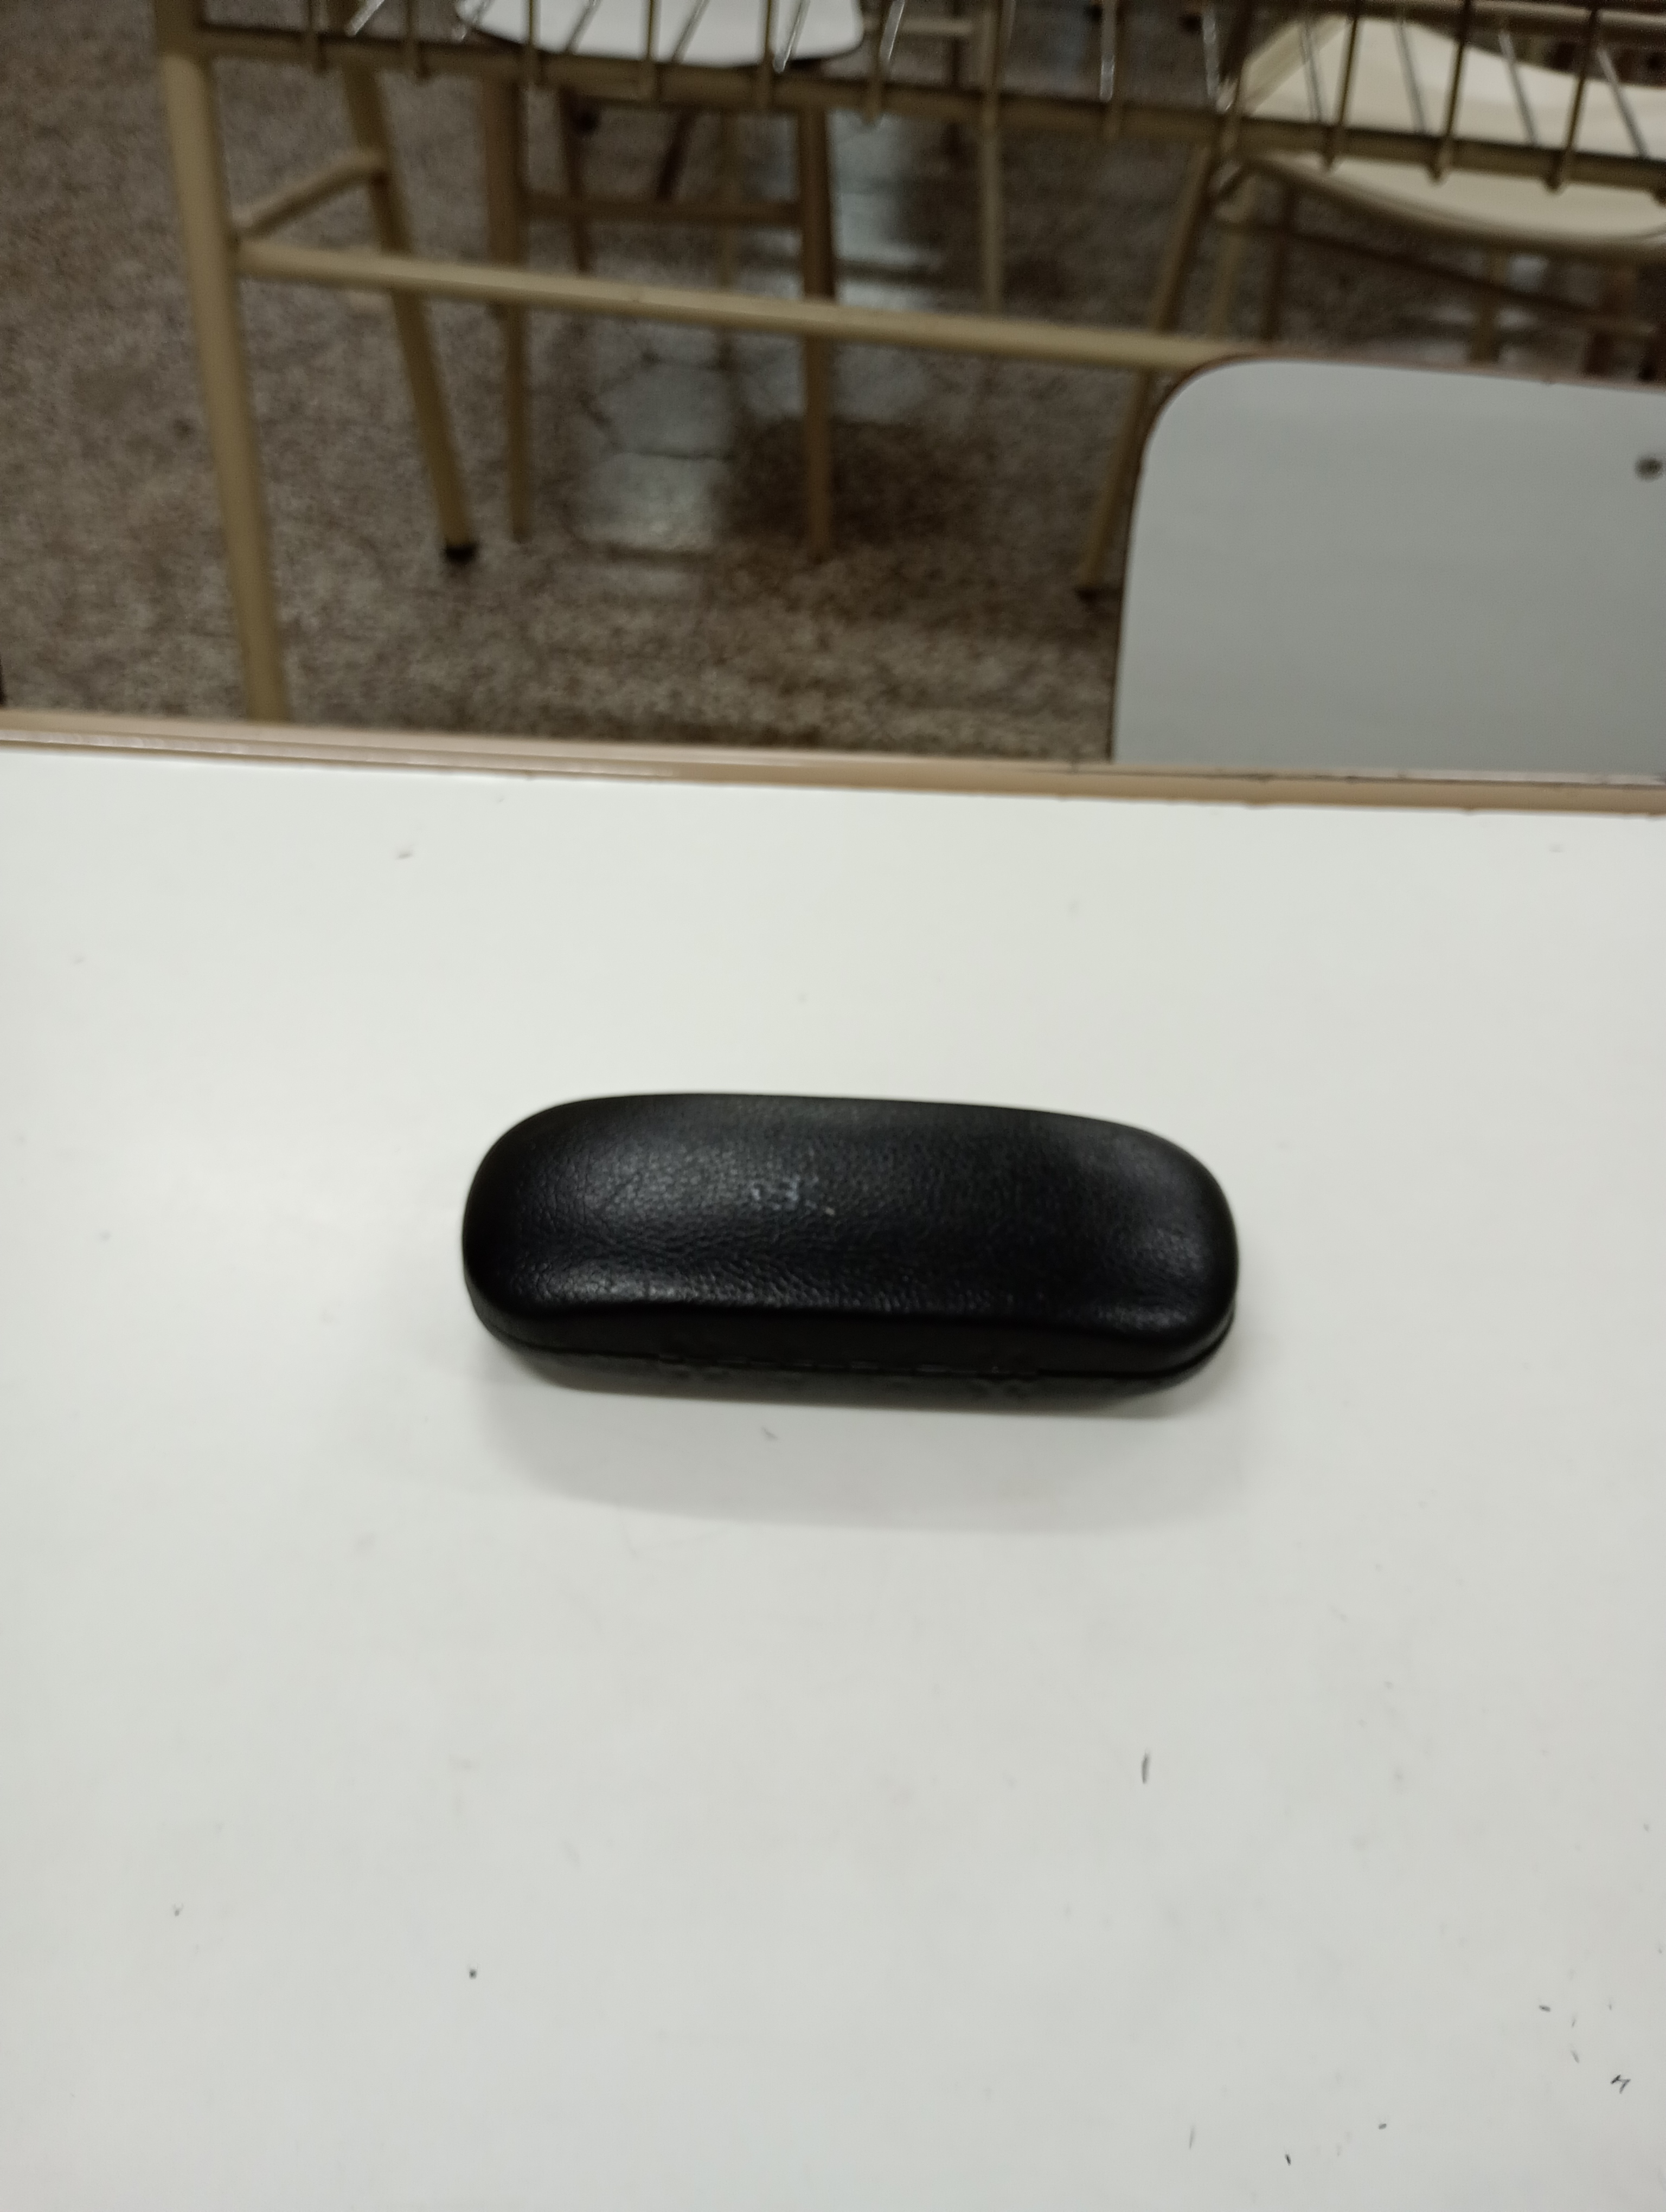estuche: (459, 1082, 1248, 1425)
